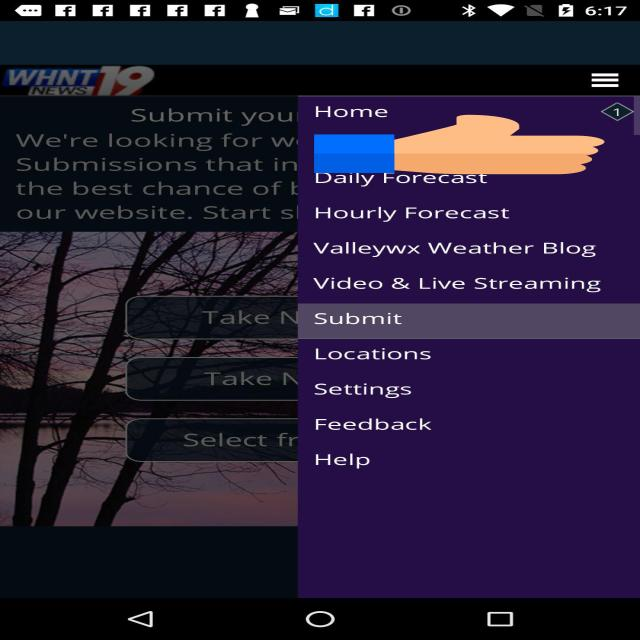privacy zuckering: (314, 113, 605, 176)
